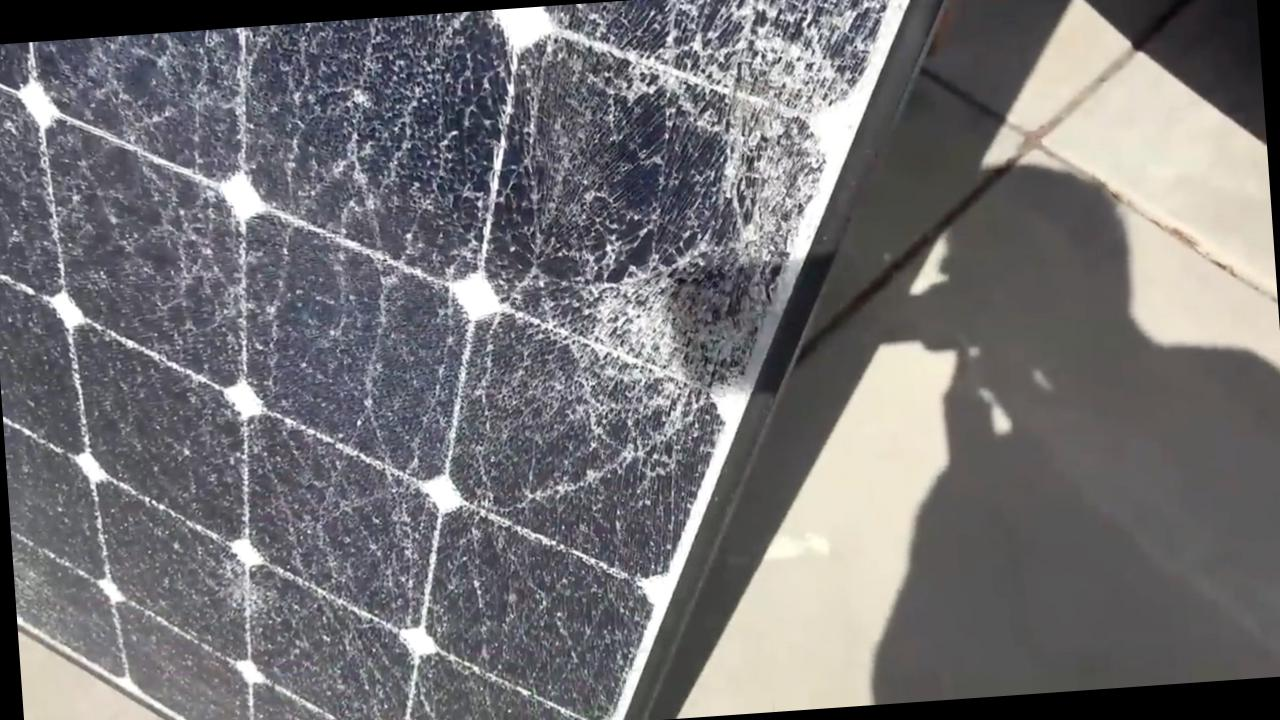Crack: (296, 400, 746, 680), (95, 27, 425, 376), (641, 0, 889, 211), (564, 238, 738, 412)
